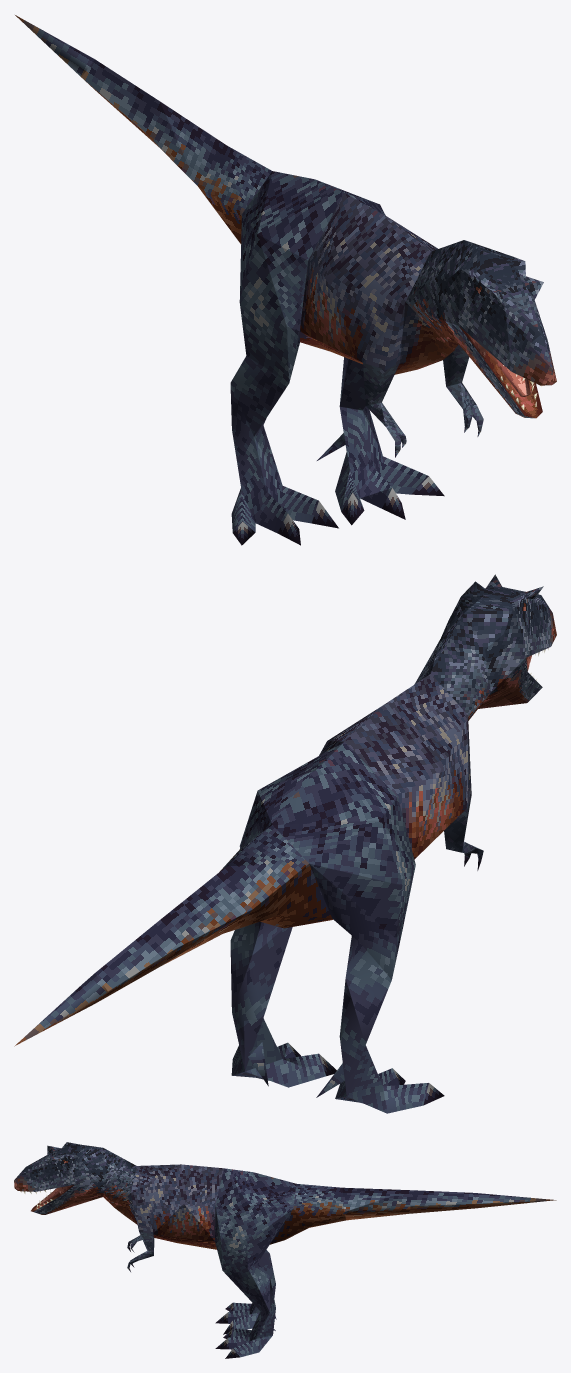
Rendered from Gorgosaurus.obj.
3 renders of one model, top to bottom at view 1: azimuth 30°, elevation 25°; view 2: azimuth 150°, elevation 25°; view 3: azimuth 270°, elevation 25°, orthographic. The views are drawn at different scales.
Visible parts, largest first — view 1: A_Gorgosaurus; view 2: A_Gorgosaurus; view 3: A_Gorgosaurus.
Boxes of the visible parts, x1,y1,x2,y2 form: A_Gorgosaurus: [15, 15, 556, 545]; A_Gorgosaurus: [14, 574, 556, 1113]; A_Gorgosaurus: [14, 1142, 556, 1358].
Bounding box in the file's own units: 6.2 × 11.01 × 28.53.
3 materials, 3 textured.
